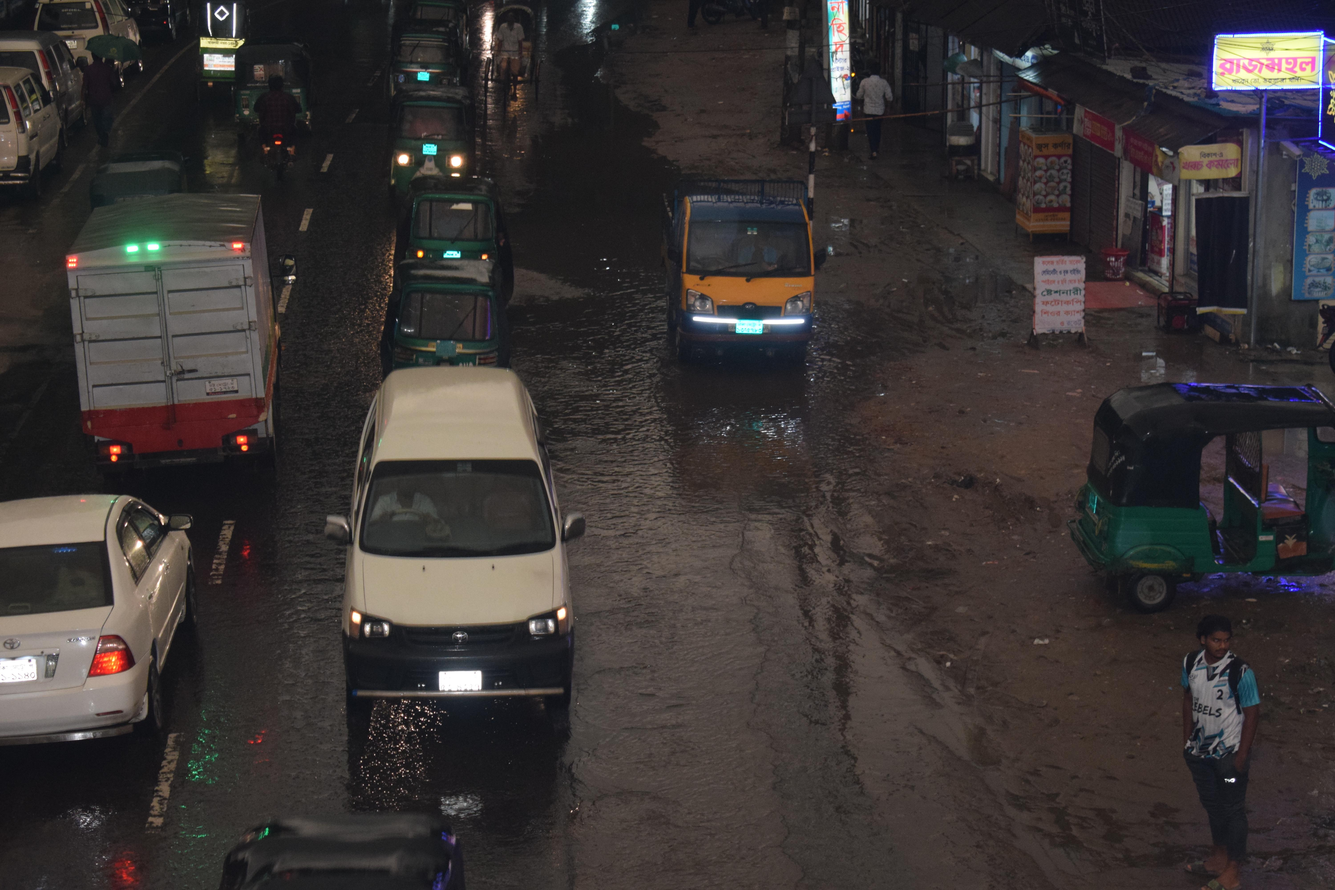Bike: (237, 60, 327, 186)
Car: (312, 336, 606, 750), (0, 466, 234, 781), (0, 14, 109, 139), (46, 0, 174, 82), (470, 0, 562, 113)
Truck: (29, 156, 335, 503), (635, 150, 852, 374)
